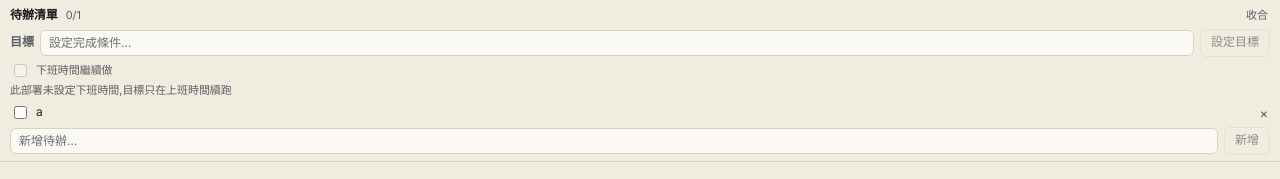
TodoPanel › sets a goal from the input
Expected: the text "a" is shown, [36,104,43,119]
Type "the report exists" into the field with test id "goal-input" at [617, 43], box [40,30,1194,56]
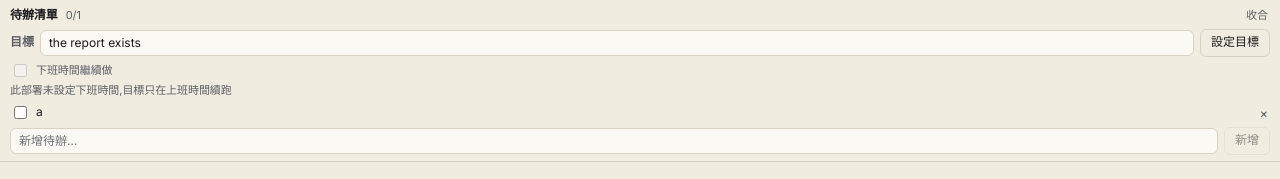
Click the button with test id "goal-set" at [1235, 43], box [1200,29,1270,57]
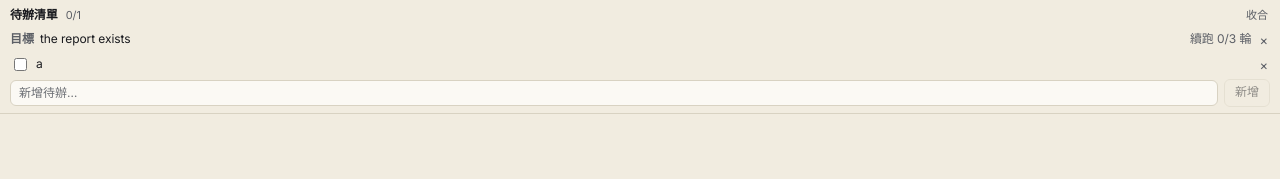
Result: the element with test id "goal-row" shows "the report exists" at [40,31,131,46]
Result: the text "續跑 0/3 輪" is shown at [1190,30,1251,49]
